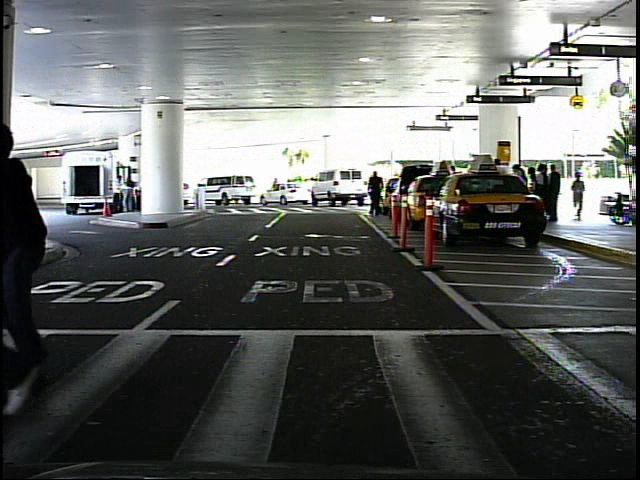person: (364, 169, 387, 218), (571, 172, 590, 221), (109, 174, 125, 215)
